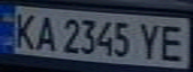2: (57, 15, 81, 55)
3: (78, 16, 100, 56)
4: (93, 17, 115, 56)
5: (112, 18, 136, 58)
A: (30, 11, 57, 52)
E: (154, 20, 190, 63)
K: (9, 9, 42, 51)
Y: (133, 19, 166, 61)
